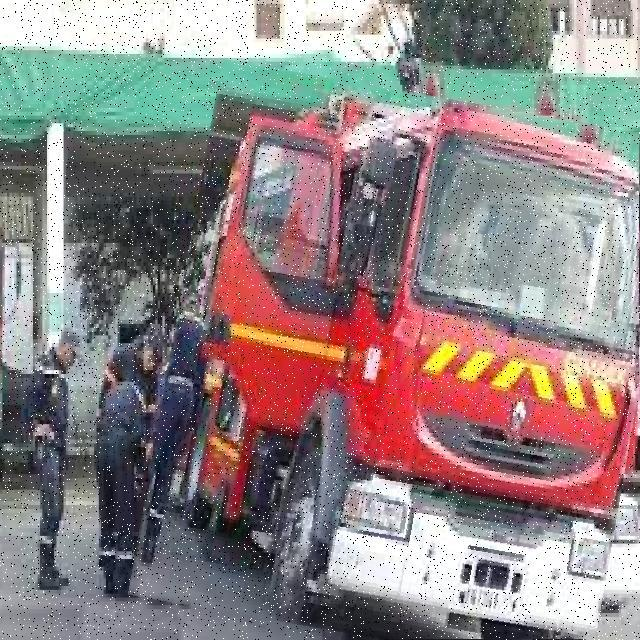pompier: (150, 77, 640, 640)
